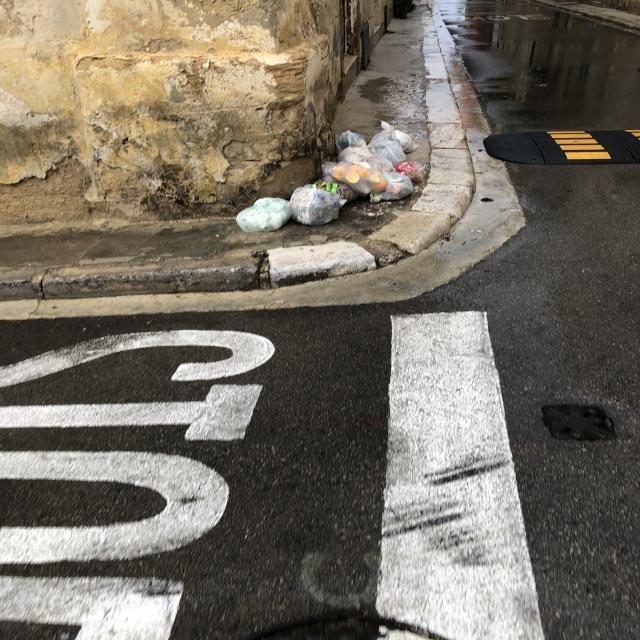Organic Waste -White Bag-: (290, 185, 341, 228), (330, 162, 387, 196), (238, 199, 293, 234), (371, 119, 420, 154), (321, 162, 360, 204), (337, 148, 397, 173), (365, 137, 407, 171), (370, 173, 414, 205), (334, 131, 367, 152), (396, 163, 425, 184)
